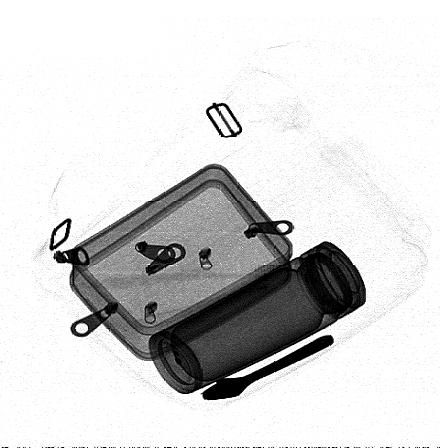Wrench: (201, 333, 336, 401)
